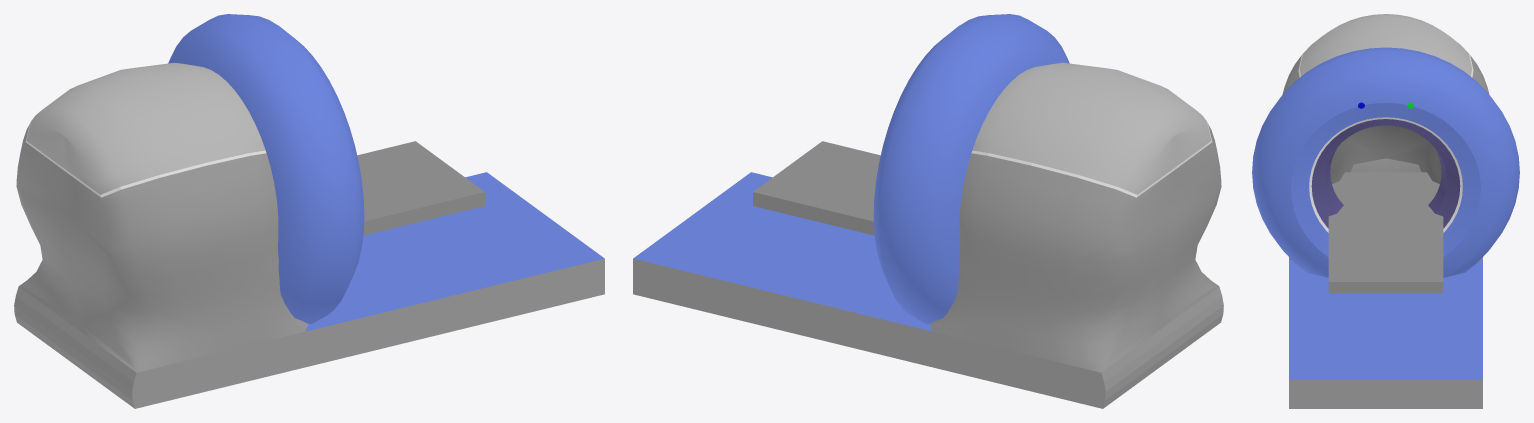
Rendered from machine.glb.
3 renders of one model, left to right at view 1: azimuth 30°, elevation 25°; view 2: azimuth 150°, elevation 25°; view 3: azimuth 270°, elevation 25°, orthographic. The views are drawn at different scales.
Parts seen in each view (by area): view 1: Cube; view 2: Cube; view 3: Cube.
Part boxes in pixels (<box>): Cube: <box>14,14,604,408</box>; Cube: <box>633,14,1223,408</box>; Cube: <box>1252,14,1519,408</box>.
Size of the model in its own units: 4.73 by 2.76 by 2.76.
